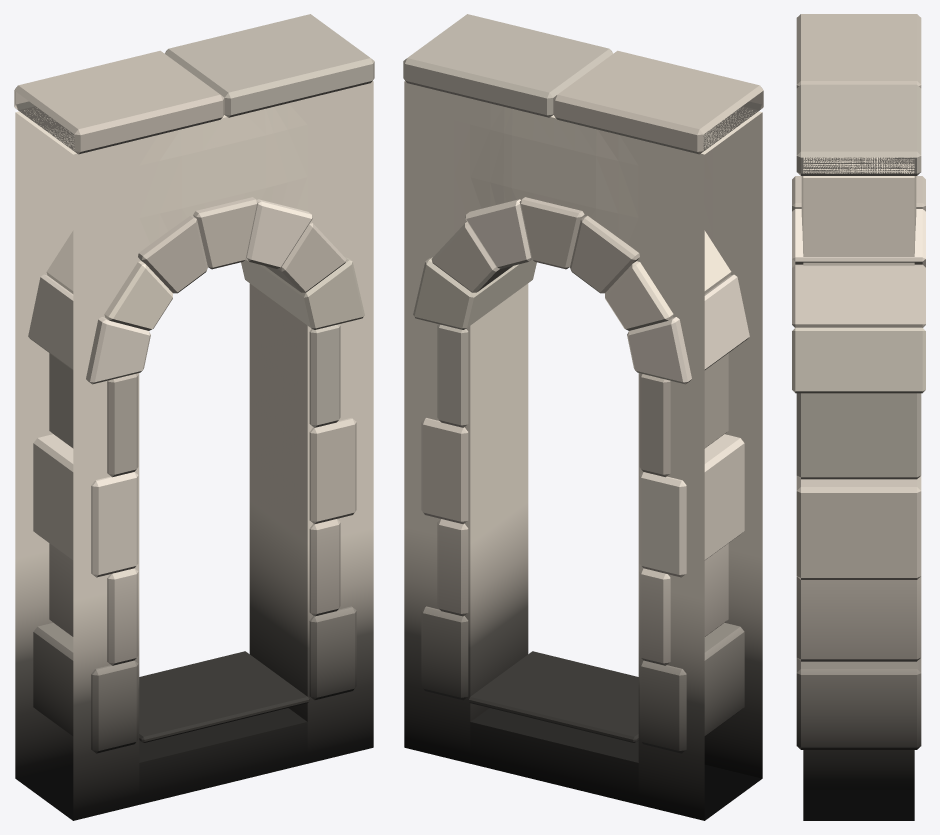
File: SM_VKI_Wall_Sewer_Door_150_Full.fbx
3 renders of one model, left to right at view 1: azimuth 30°, elevation 25°; view 2: azimuth 150°, elevation 25°; view 3: azimuth 270°, elevation 25°, orthographic. The views are drawn at different scales.
Parts seen in each view (by area): view 1: SM_VKI_Wall_Sewer_Door_150_Full.001; view 2: SM_VKI_Wall_Sewer_Door_150_Full.001; view 3: SM_VKI_Wall_Sewer_Door_150_Full.001.
Part boxes in pixels (x1,y1,x2,y2): SM_VKI_Wall_Sewer_Door_150_Full.001: (14,14,374,820); SM_VKI_Wall_Sewer_Door_150_Full.001: (403,14,763,820); SM_VKI_Wall_Sewer_Door_150_Full.001: (792,14,925,820).
Size of the model in its own units: 1.5 by 3.3 by 0.6.
